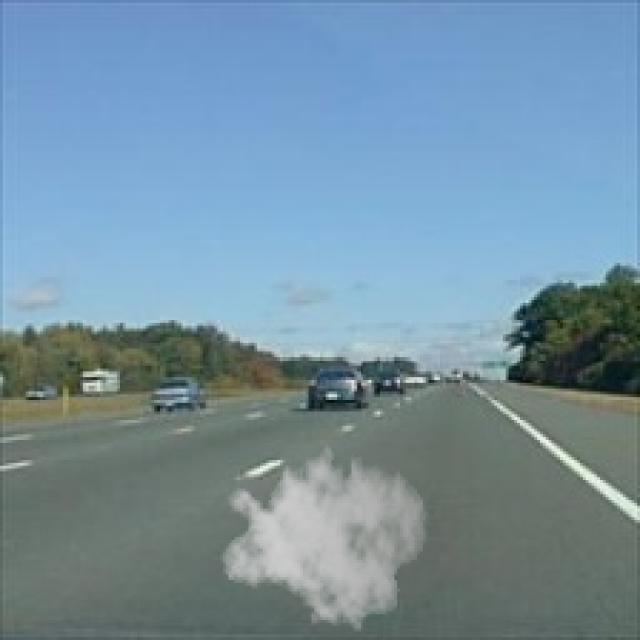smoke: (220, 434, 429, 637)
